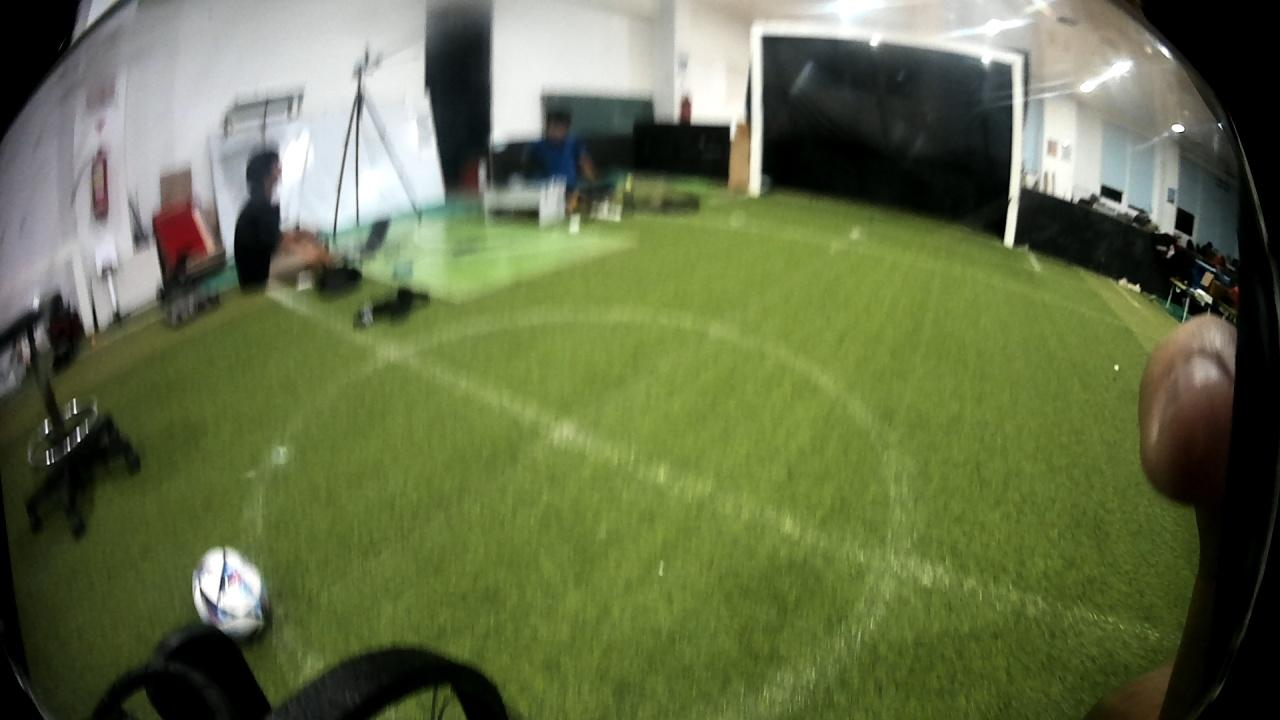ball: (189, 536, 282, 642)
